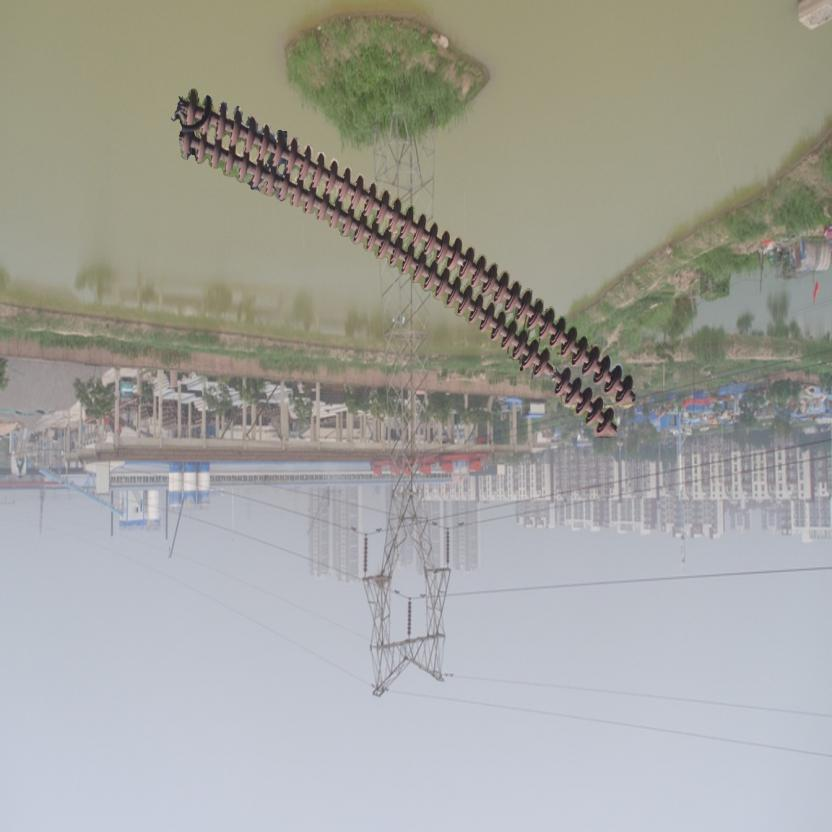defect: (533, 346, 573, 398)
